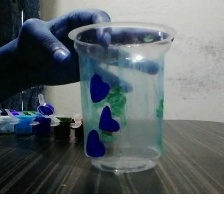glass: (63, 14, 180, 182)
